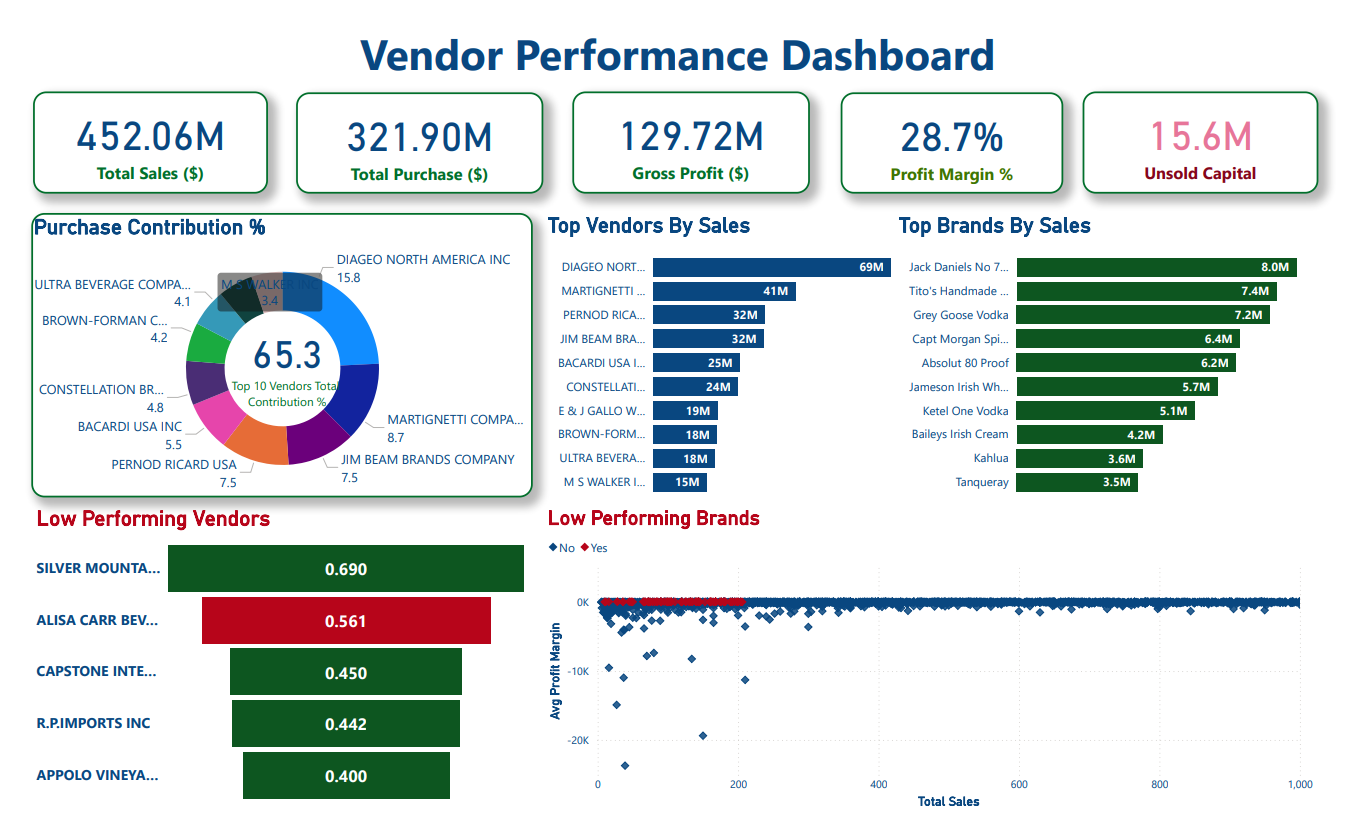

What the dashboard file says about the page in this screenshot:
{"tool":"powerbi","page":{"name":"Dashboard","canvas":[1500,900],"ordinal":0},"visuals":[{"type":"card","fields":{"Values":["Sum(vendor_sales_summary.TotalPurchaseDollars)"]},"box":[315.8,82.4,280.9,114.6],"z":0},{"type":"card","fields":{"Values":["Sum(vendor_sales_summary.TotalSalesDollars)"]},"box":[16.8,81,266.9,116],"z":1000},{"type":"card","fields":{"Values":["Sum(vendor_sales_summary.GrossProfit)"]},"box":[630.2,81,269.7,116],"z":2000},{"type":"card","fields":{"Values":["vendor_sales_summary.Profit Margin %"]},"box":[934.8,82.4,252.9,114.6],"z":3000},{"type":"card","fields":{"Values":["vendor_sales_summary.Unsold Capital"]},"box":[1210.1,81,268.3,116],"z":4000},{"type":"textbox","box":[0,0,1500,83],"z":5000},{"type":"donutChart","title":"Purchase Contribution % ","fields":{"Category":["PurchaseContribution.VendorName"],"Y":["Sum(PurchaseContribution.PurchaseContribution%)"]},"box":[14.5,219.4,571,322.6],"z":6000},{"type":"card","fields":{"Values":["Sum(PurchaseContribution.PurchaseContribution%)"]},"box":[211.8,266.7,188.2,233.3],"z":7000},{"type":"barChart","title":"Top Vendors By Sales","fields":{"Category":["vendor_sales_summary.VendorName"],"Y":["Sum(vendor_sales_summary.TotalSalesDollars)"]},"box":[597.3,219.2,447.9,332.9],"z":8000},{"type":"barChart","title":"Top Brands By Sales","fields":{"Category":["vendor_sales_summary.Description"],"Y":["Sum(vendor_sales_summary.TotalSalesDollars)"]},"box":[995.9,219.2,504.1,332.9],"z":9000},{"type":"funnel","title":"Low Performing Vendors","fields":{"Category":["LowTurnoverVendor.VendorName"],"Y":["Avg(LowTurnoverVendor.AvgStockTurnOver)"]},"box":[16.1,551.6,569.4,348.4],"z":10000},{"type":"scatterChart","title":"Low Performing Brands","fields":{"X":["Sum(BrandPerformance.TotalSales)"],"Y":["Sum(BrandPerformance.AvgProfitMargin)"],"Series":["BrandPerformance.TargetBrand"],"Category":["BrandPerformance.Description"]},"box":[596.8,551.6,880.6,348.4],"z":11000}]}

Visuals, with their boxes in screenshot pixels (x1, y1, x2, y2), scaled from the page's 1500x900 canvas onto the 1353x825 screenshot:
card - Sum(vendor_sales_summary.TotalPurchaseDollars): <bbox>285, 76, 538, 181</bbox>
card - Sum(vendor_sales_summary.TotalSalesDollars): <bbox>15, 74, 256, 181</bbox>
card - Sum(vendor_sales_summary.GrossProfit): <bbox>568, 74, 812, 181</bbox>
card - vendor_sales_summary.Profit Margin %: <bbox>843, 76, 1071, 181</bbox>
card - vendor_sales_summary.Unsold Capital: <bbox>1092, 74, 1334, 181</bbox>
textbox: <bbox>0, 0, 1352, 76</bbox>
"Purchase Contribution % " donutChart: <bbox>13, 201, 528, 497</bbox>
card - Sum(PurchaseContribution.PurchaseContribution%): <bbox>191, 244, 361, 458</bbox>
"Top Vendors By Sales" barChart: <bbox>539, 201, 943, 506</bbox>
"Top Brands By Sales" barChart: <bbox>898, 201, 1352, 506</bbox>
"Low Performing Vendors" funnel: <bbox>15, 506, 528, 824</bbox>
"Low Performing Brands" scatterChart: <bbox>538, 506, 1333, 824</bbox>
